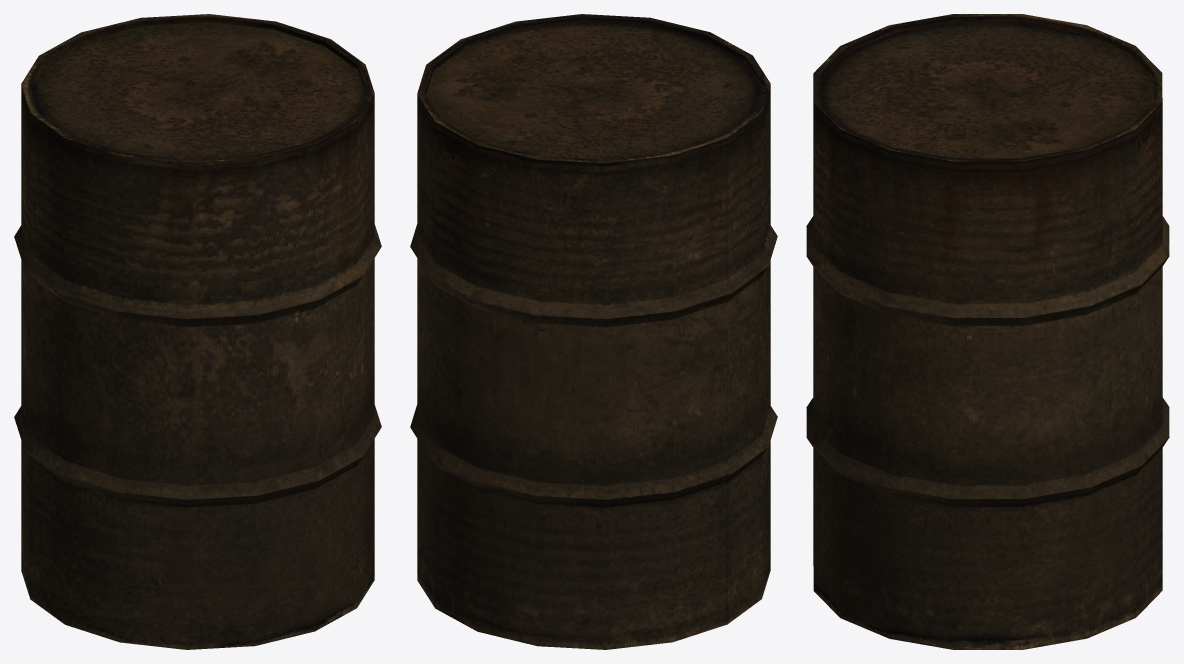
The model's file is metal_barrel_hr_4_1.glb.
3 views of the same model, side by side, from view 1: azimuth 30°, elevation 25°; view 2: azimuth 150°, elevation 25°; view 3: azimuth 270°, elevation 25° (orthographic).
Visible parts, largest first — view 1: metal_barrel_hr_4_1; view 2: metal_barrel_hr_4_1; view 3: metal_barrel_hr_4_1.
Part boxes in pixels (left/top/right/bottom): metal_barrel_hr_4_1: left=14, top=14, right=381, bottom=649; metal_barrel_hr_4_1: left=410, top=14, right=777, bottom=649; metal_barrel_hr_4_1: left=806, top=14, right=1169, bottom=649.
Bounding box in the file's own units: 0.6735 × 1 × 0.6735.
Materials: 1 (1 with a texture image).
